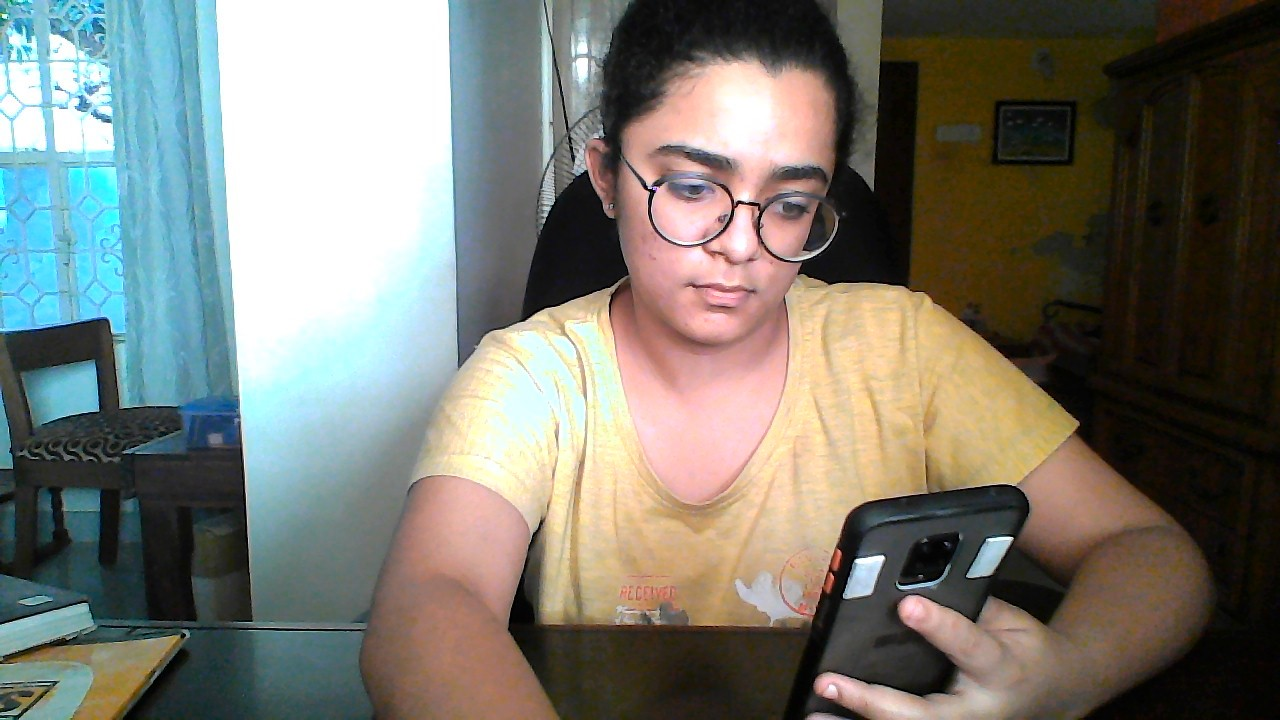mobile phone: (727, 421, 1133, 720)
person: (439, 1, 982, 372)
